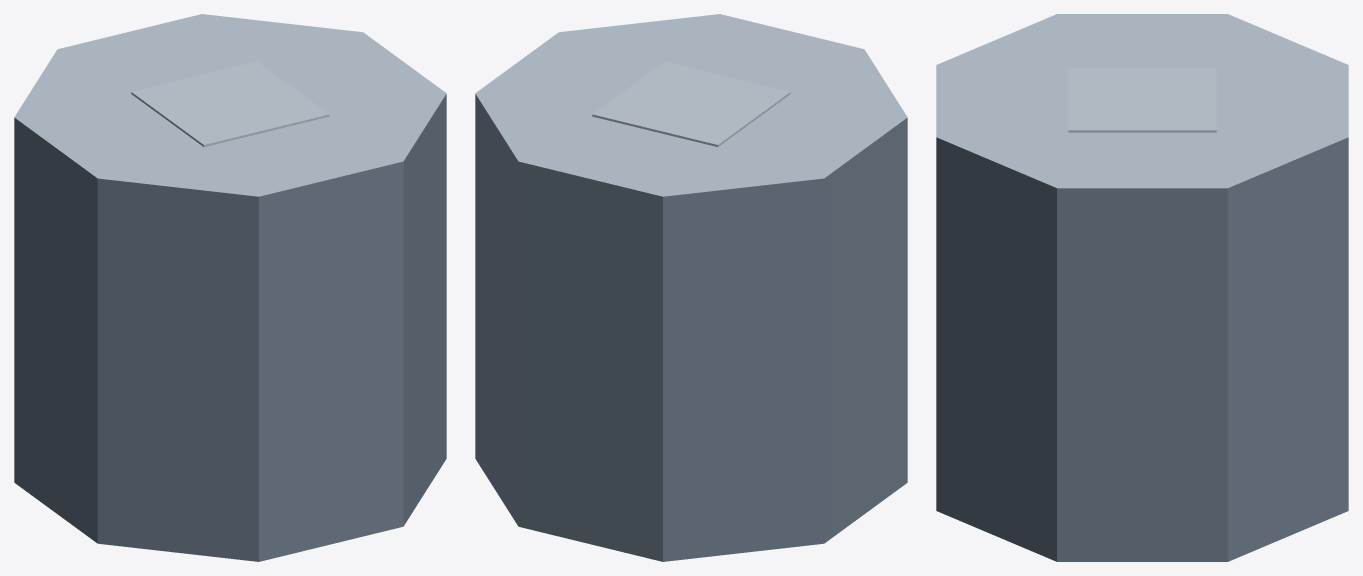
Rendered from microservice.glb.
3 renders of one model, left to right at view 1: azimuth 30°, elevation 25°; view 2: azimuth 150°, elevation 25°; view 3: azimuth 270°, elevation 25°, orthographic. The views are drawn at different scales.
Parts seen in each view (by area): view 1: side, cap, accent; view 2: side, cap, accent; view 3: side, cap, accent.
Boxes of the visible parts, left/top/right/bottom form: side: left=14, top=94, right=446, bottom=561; cap: left=14, top=14, right=446, bottom=196; accent: left=131, top=61, right=329, bottom=146; side: left=475, top=94, right=907, bottom=561; cap: left=475, top=14, right=907, bottom=196; accent: left=592, top=61, right=790, bottom=146; side: left=936, top=137, right=1348, bottom=561; cap: left=936, top=14, right=1348, bottom=188; accent: left=1068, top=67, right=1216, bottom=132.
Size of the model in its own units: 1 by 1.01 by 1.
